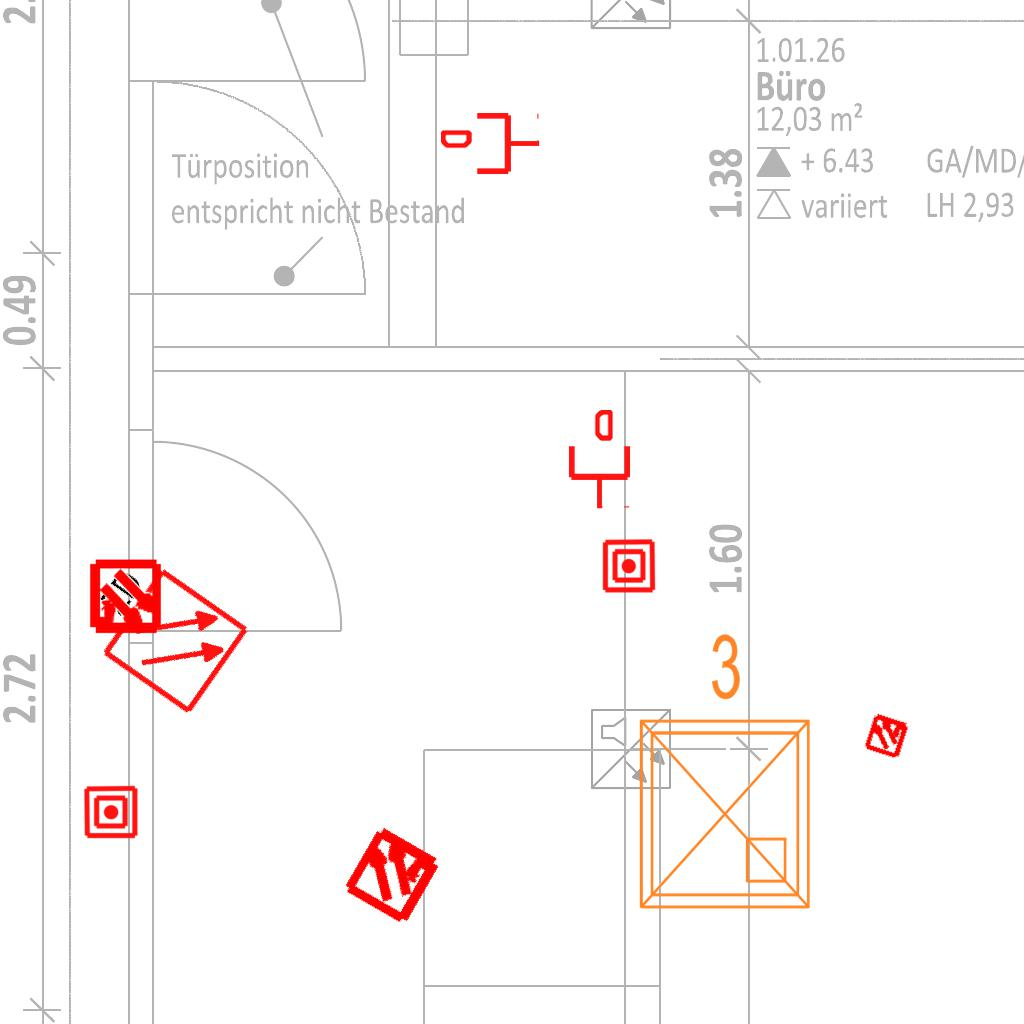Datenanschluss_einfach: (441, 109, 541, 178), (565, 410, 634, 510)
Einbaudownlights_LED_Konferenzraeume: (617, 623, 825, 923)
NAM-Nichtautomatischer_Melder: (601, 538, 657, 594), (83, 784, 139, 840)
OT_Multisensormelder_(Kombination_RMO_WMD): (316, 796, 471, 951), (69, 542, 182, 655), (851, 699, 923, 771)
ZD_Melder_in_Zwischendecke_mit_Revisionsoeffnung_mind_40_x_40_cm: (65, 542, 253, 721)
